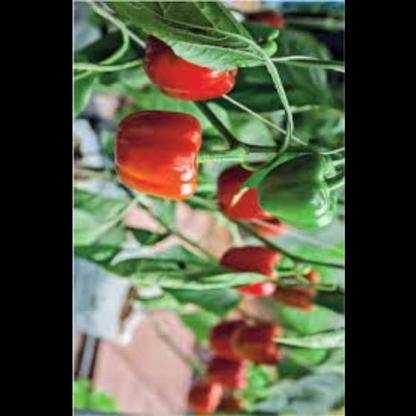bell pepper: (192, 318, 291, 411), (107, 109, 205, 196), (132, 34, 240, 104), (219, 149, 282, 223), (216, 239, 286, 300)
